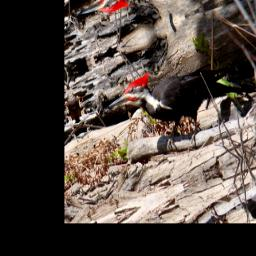Woodpecker: (102, 28, 256, 179)
